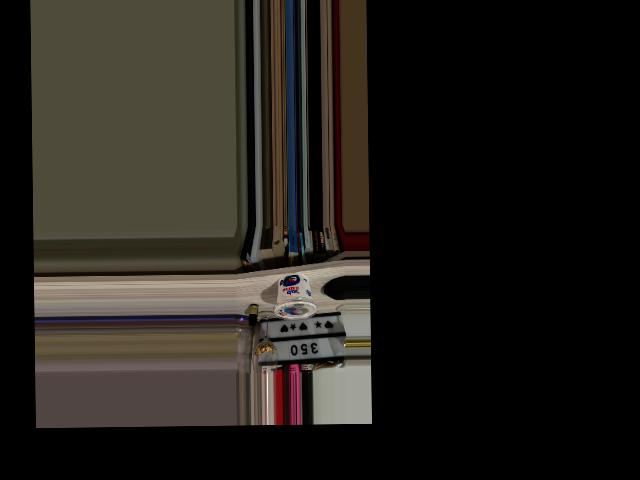cotage: (276, 271, 313, 321)
